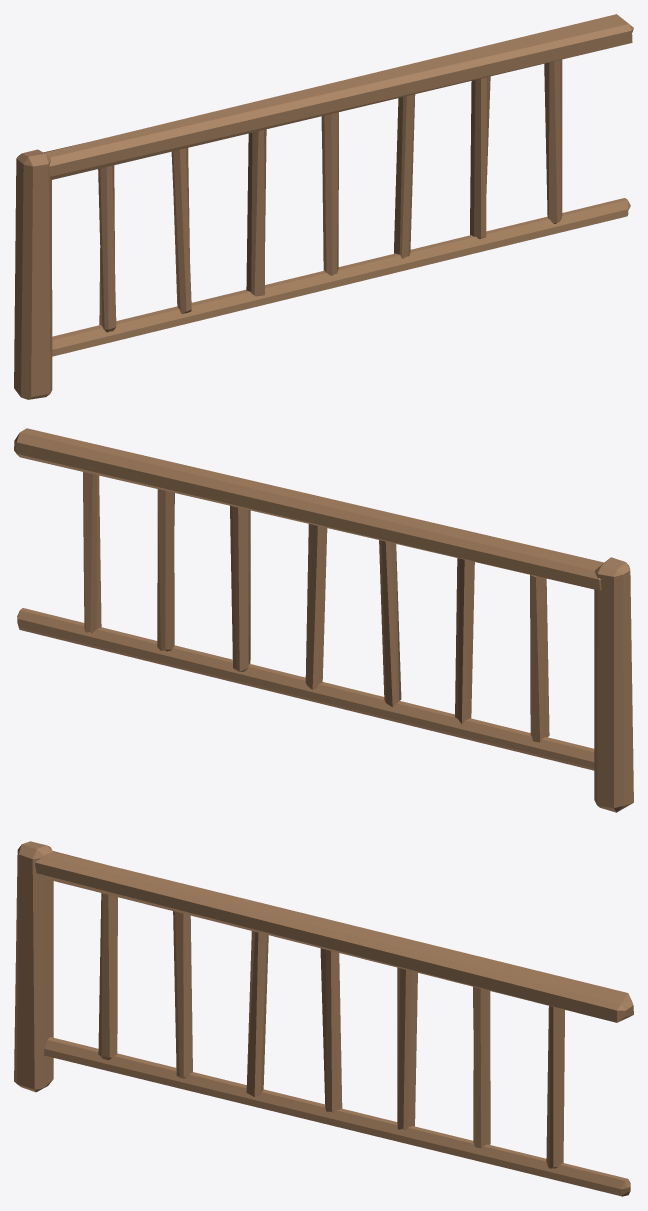
File: PKX_Railing_2m.fbx
The picture shows the model from 3 angles, top to bottom: view 1: azimuth 30°, elevation 25°; view 2: azimuth 150°, elevation 25°; view 3: azimuth 330°, elevation 25°; orthographic projection.
Visible parts, largest first — view 1: PKX_Railing_2m; view 2: PKX_Railing_2m; view 3: PKX_Railing_2m.
Boxes of the visible parts, x1,y1,x2,y2 form: PKX_Railing_2m: (14, 14, 633, 399); PKX_Railing_2m: (14, 428, 633, 812); PKX_Railing_2m: (14, 841, 633, 1196).
Size of the model in its own units: 206 by 78.57 by 10.21.
